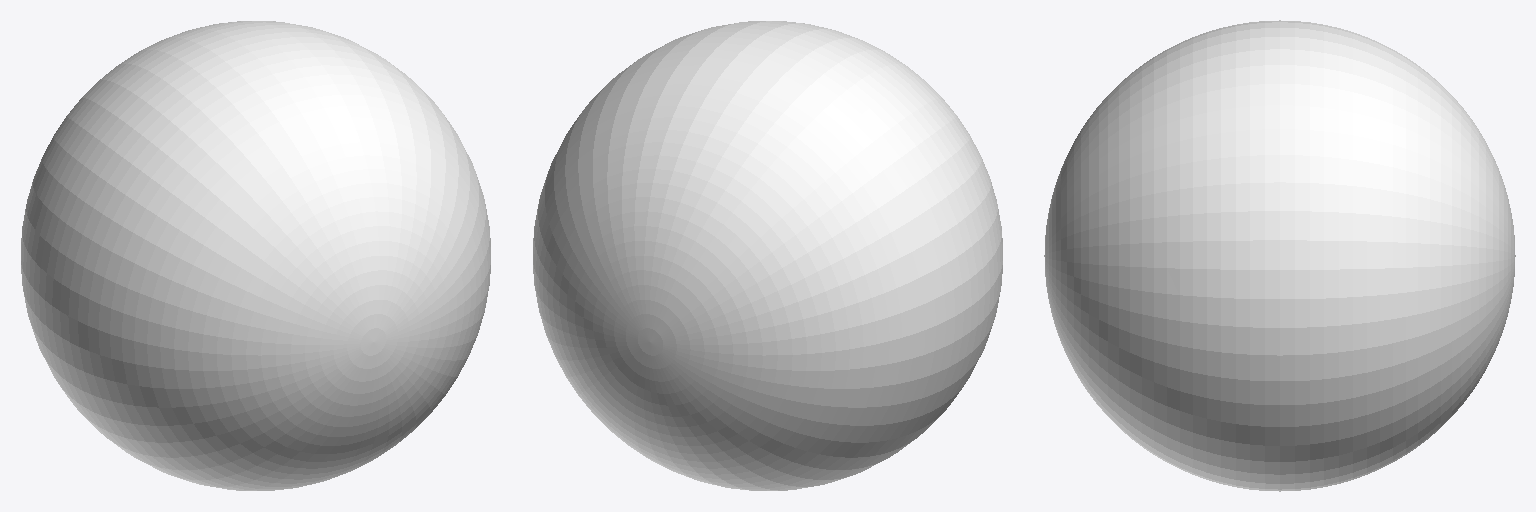
Rendered from Earth.obj.
3 views of the same model, side by side, from view 1: azimuth 30°, elevation 25°; view 2: azimuth 150°, elevation 25°; view 3: azimuth 270°, elevation 25° (orthographic).
Parts seen in each view (by area): view 1: Sphere; view 2: Sphere; view 3: Sphere.
Boxes of the visible parts, x1,y1,x2,y2 form: Sphere: [21, 21, 490, 490]; Sphere: [533, 21, 1002, 490]; Sphere: [1044, 20, 1515, 491].
Size of the model in its own units: 2 by 2 by 2.